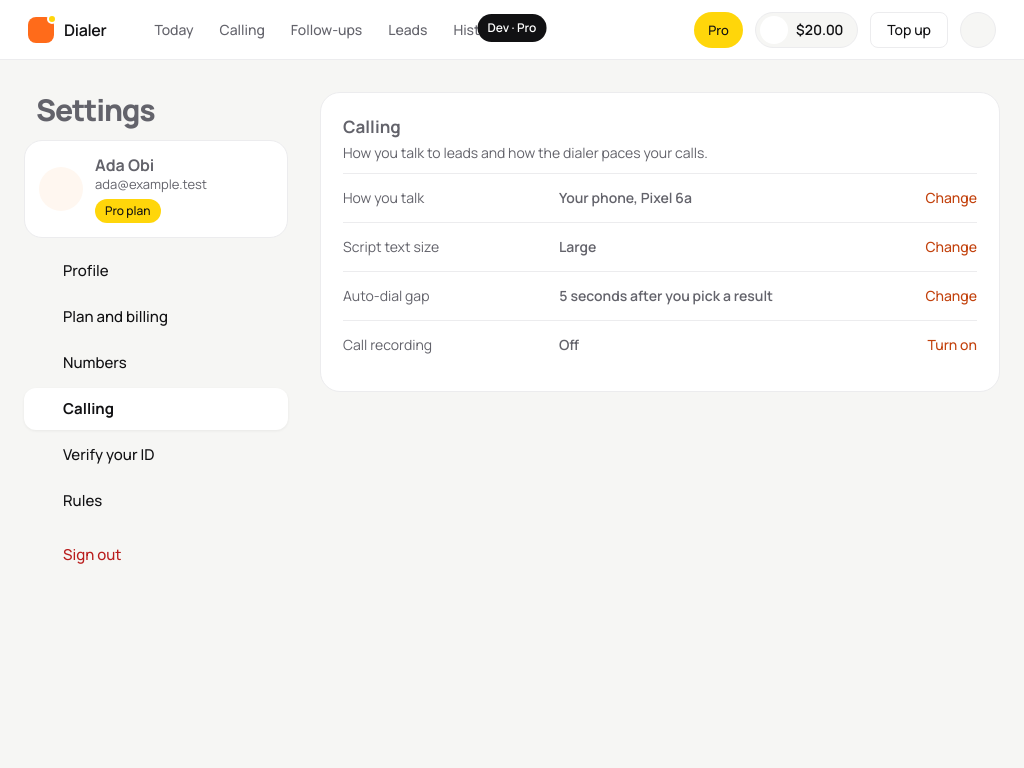
Test: live recordings › Settings: turning recording on needs the rep to agree to tell every lead
Expected: the text "Off" is shown, left=559, top=335, right=579, bottom=354
What coordinates should you click on to do the following:
click the button "Turn on"
I would click on:
 (952, 345)
Its box is left=928, top=335, right=977, bottom=355.
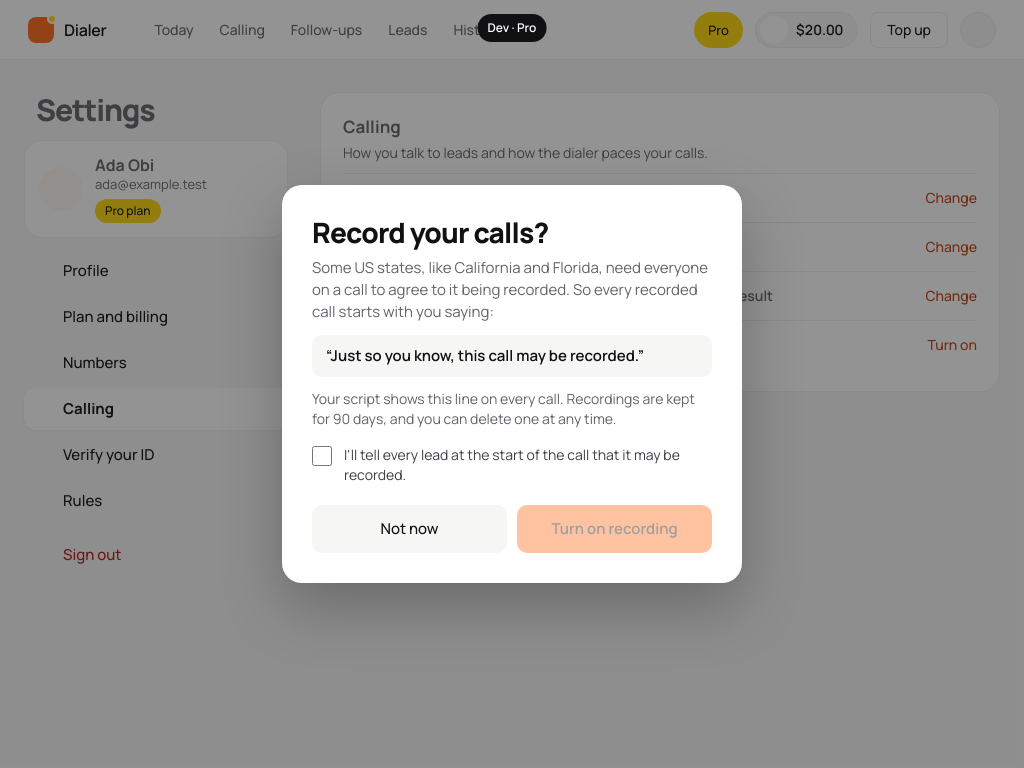
Expected: the text "“Just so you know, this call may be recorded.”" is shown, left=312, top=335, right=712, bottom=377
Expected: the button "Turn on recording" is disabled, left=517, top=505, right=712, bottom=553
What coordinates should you click on to do the following:
click the checkbox
I would click on:
 (322, 456)
Its box is left=312, top=446, right=332, bottom=466.
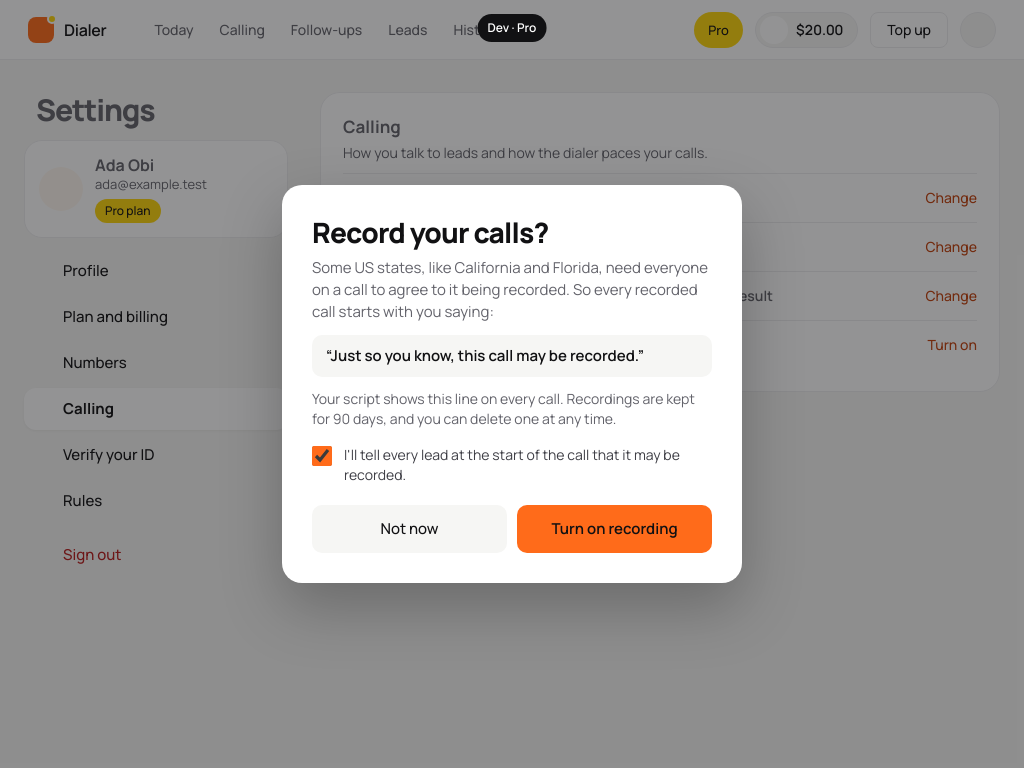
What coordinates should you click on to do the following:
click the button "Turn on recording"
I would click on:
 (614, 529)
Its box is left=517, top=505, right=712, bottom=553.
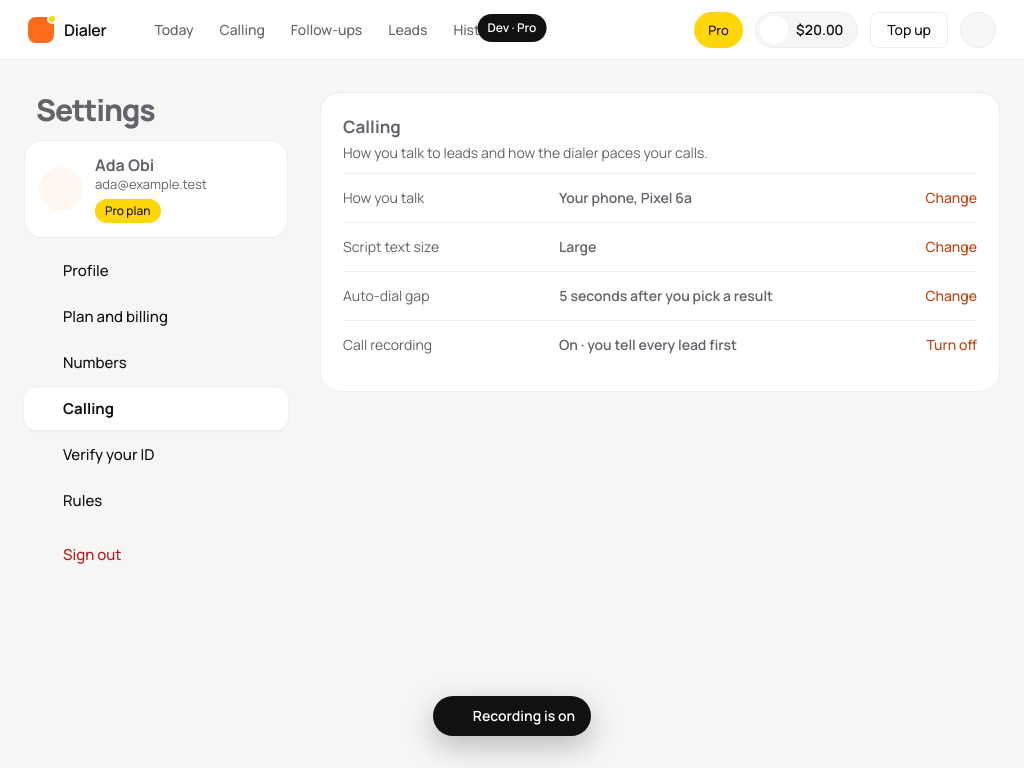
Expected: the text "On · you tell every lead first" is shown, left=559, top=335, right=737, bottom=354
